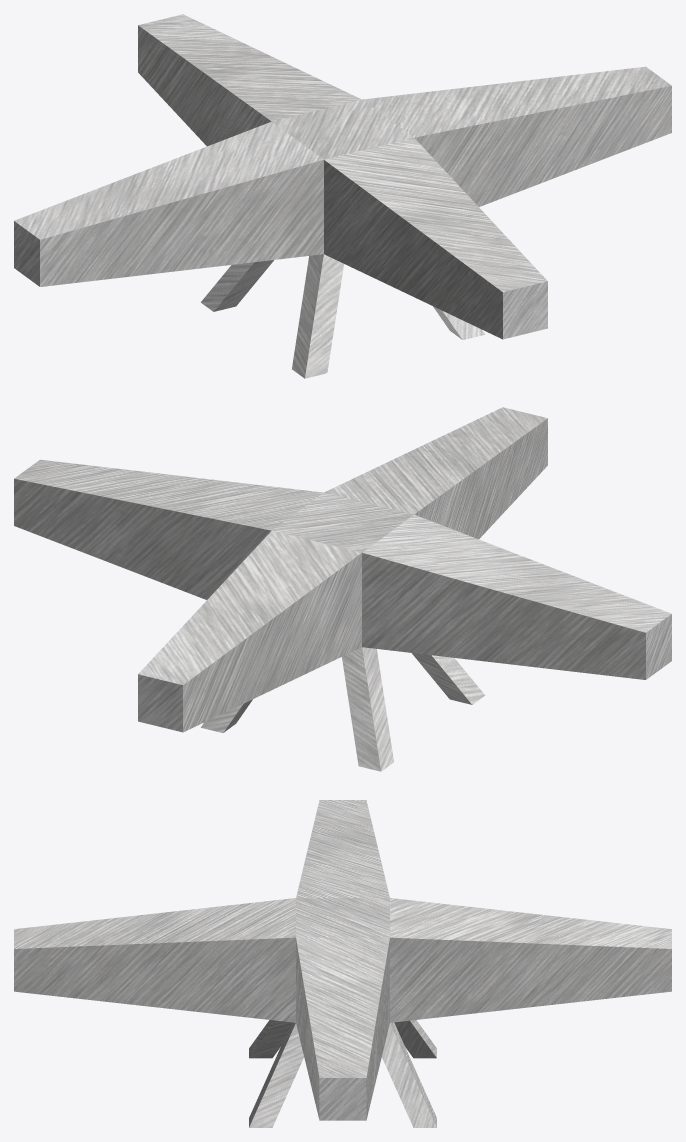
File: quadcopter.obj
3 renders of one model, top to bottom at view 1: azimuth 30°, elevation 25°; view 2: azimuth 150°, elevation 25°; view 3: azimuth 270°, elevation 25°, orthographic. The views are drawn at different scales.
Parts seen in each view (by area): view 1: Cube; view 2: Cube; view 3: Cube.
Part boxes in pixels (bbox=[...]): Cube: bbox=[14, 14, 671, 378]; Cube: bbox=[14, 407, 671, 771]; Cube: bbox=[14, 800, 671, 1127].
Bounding box in the file's own units: 14 × 4 × 14.
